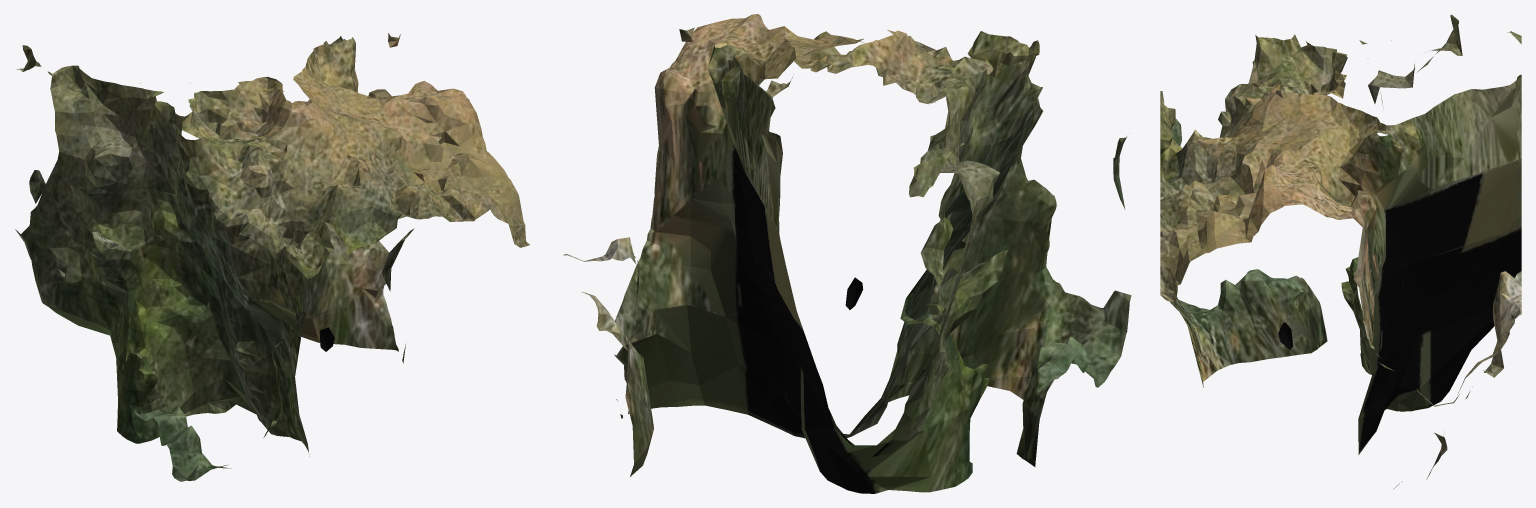
3 views of the same model, side by side, from view 1: azimuth 30°, elevation 25°; view 2: azimuth 150°, elevation 25°; view 3: azimuth 270°, elevation 25° (orthographic). The views are drawn at different scales.
Bounding box in the file's own units: 11.8 × 11.8 × 11.8.
Materials: 7 (7 with a texture image).
